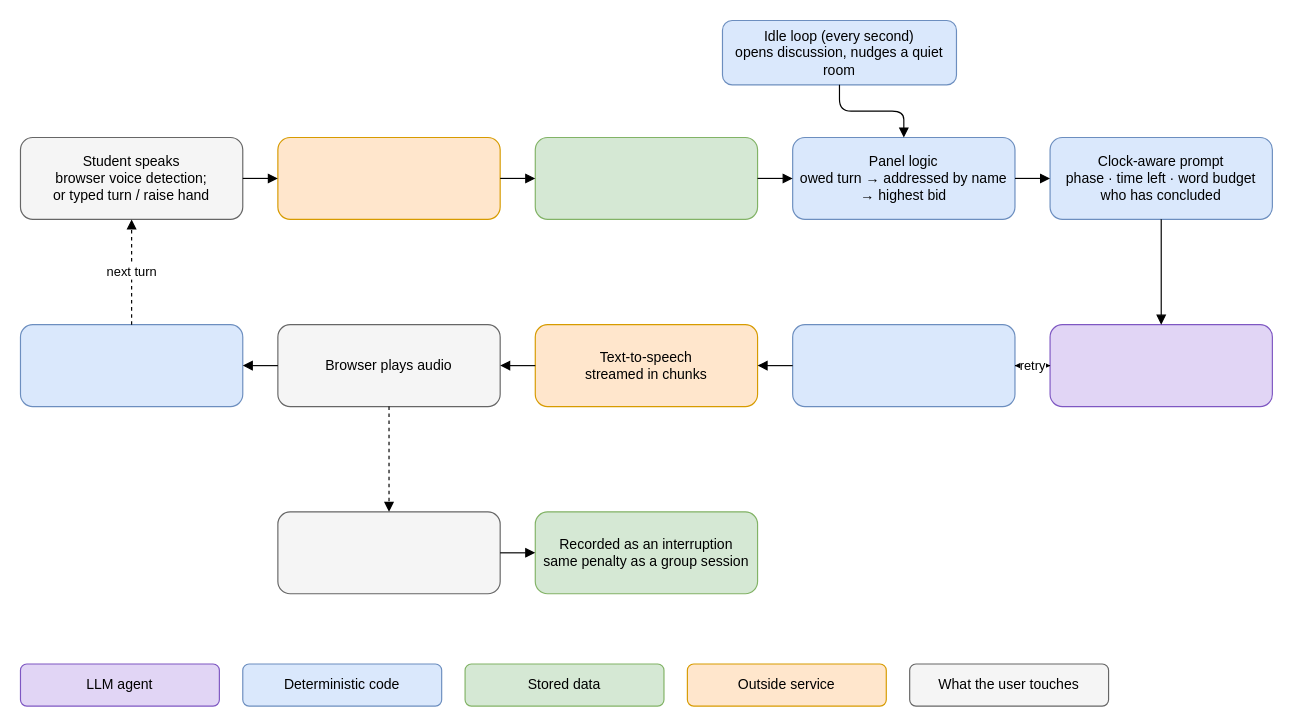
Image size: 1293x727. Some labels were removed from this diagram. The box of each missing label's shape, as (x1, y1, x2, y2) in pixels:
Barge-in student speaks over the persona; audio cut at once: (277, 511, 500, 594)
Floor released when playback ends: (19, 324, 243, 407)
Persona agent speak? line · concludes?: (1049, 324, 1272, 407)
Record the turn speech event · turn · transcript segment: (534, 136, 758, 219)
Repeat check repeat → sent back once; then yield; 3 yields → new question: (792, 324, 1015, 407)
Server transcribes replies held meanwhile: (277, 136, 500, 219)
